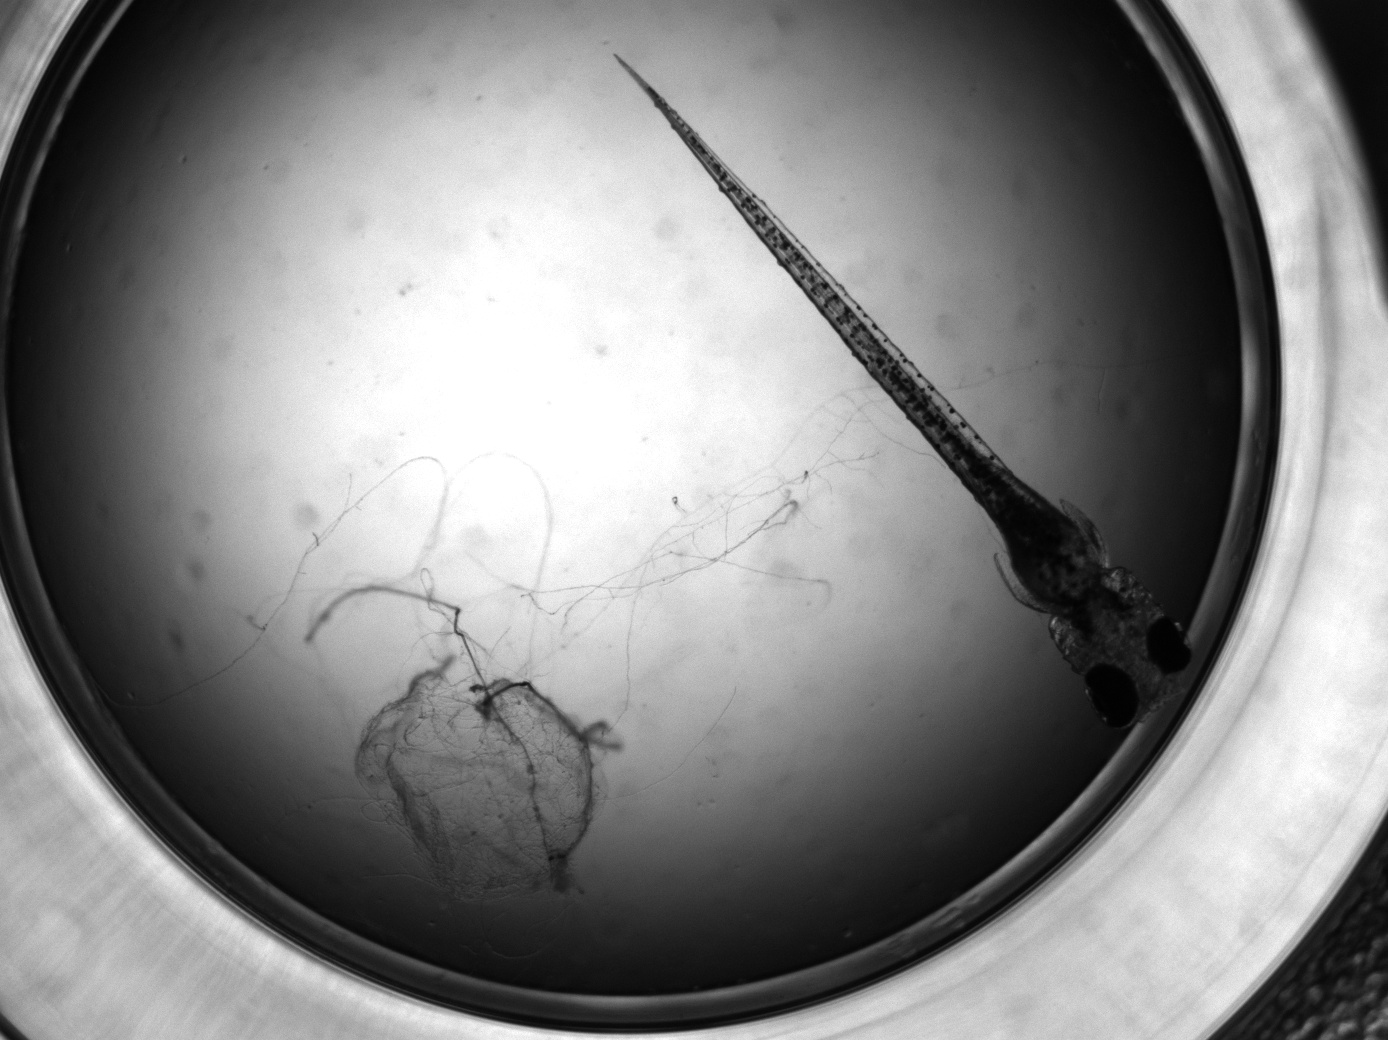debris: (353, 665, 601, 902)
embryo: (612, 54, 1198, 730)
eye: (1084, 663, 1141, 729), (1147, 617, 1193, 674)
